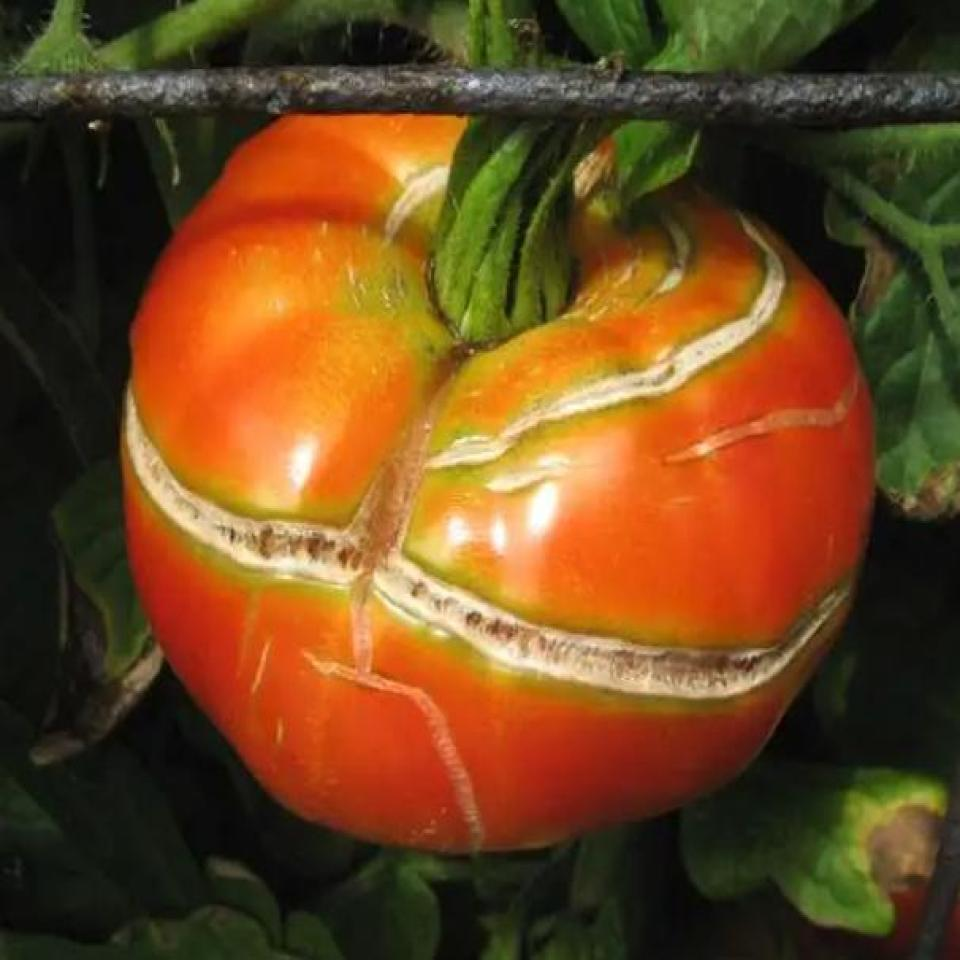Cracking: (117, 340, 875, 731), (363, 131, 859, 477)
